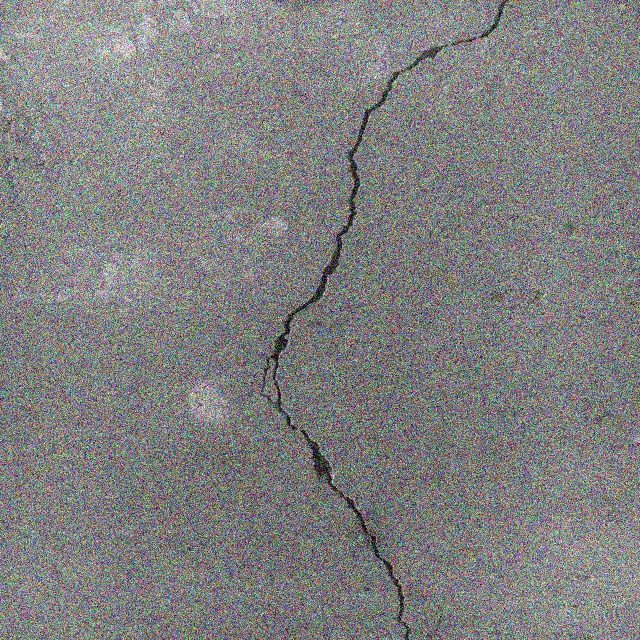SurfaceCrack: (244, 0, 538, 639)
